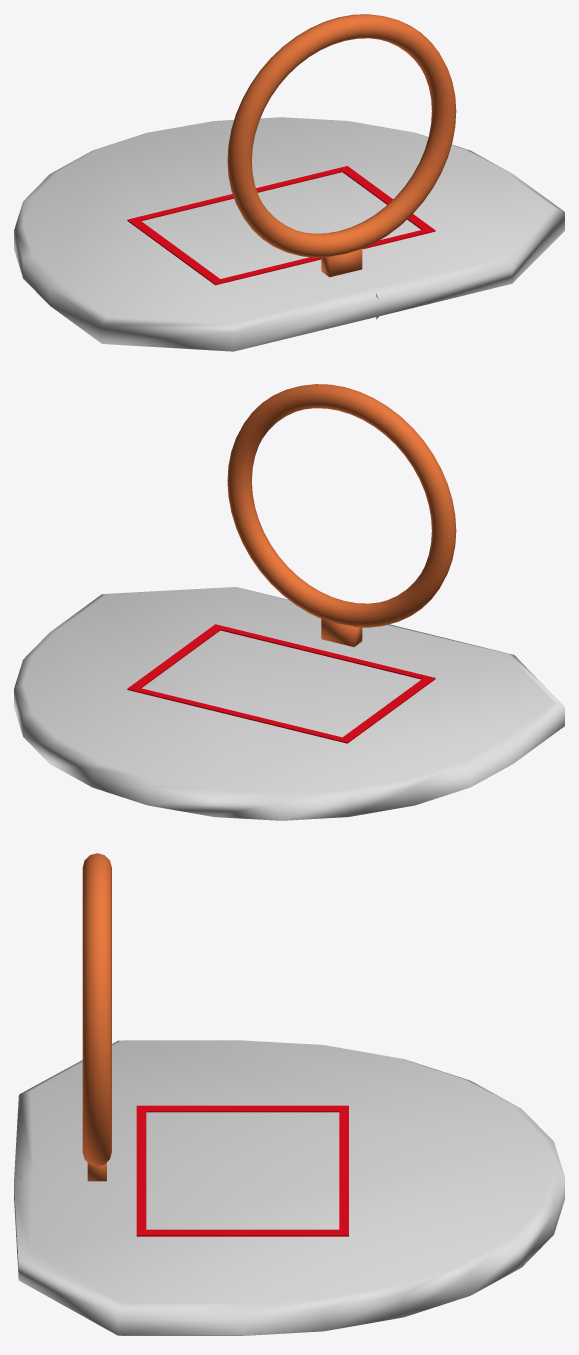
File: Smaller Basketball Hoop.fbx
The picture shows the model from 3 angles, top to bottom: view 1: azimuth 30°, elevation 25°; view 2: azimuth 150°, elevation 25°; view 3: azimuth 270°, elevation 25°; orthographic projection. The views are drawn at different scales.
Visible parts, largest first — view 1: Backboard.001, Hoop.001, Cube.001; view 2: Backboard.001, Hoop.001, Cube.001; view 3: Backboard.001, Hoop.001, Cube.001.
Boxes of the visible parts, x1,y1,x2,y2 form: Backboard.001: [14, 117, 564, 351]; Hoop.001: [227, 14, 456, 277]; Cube.001: [127, 166, 435, 285]; Backboard.001: [14, 587, 564, 820]; Hoop.001: [227, 384, 456, 646]; Cube.001: [127, 624, 435, 743]; Backboard.001: [14, 1040, 564, 1335]; Hoop.001: [82, 853, 111, 1181]; Cube.001: [136, 1105, 348, 1236].
Size of the model in its own units: 125 by 72.1 by 107.
